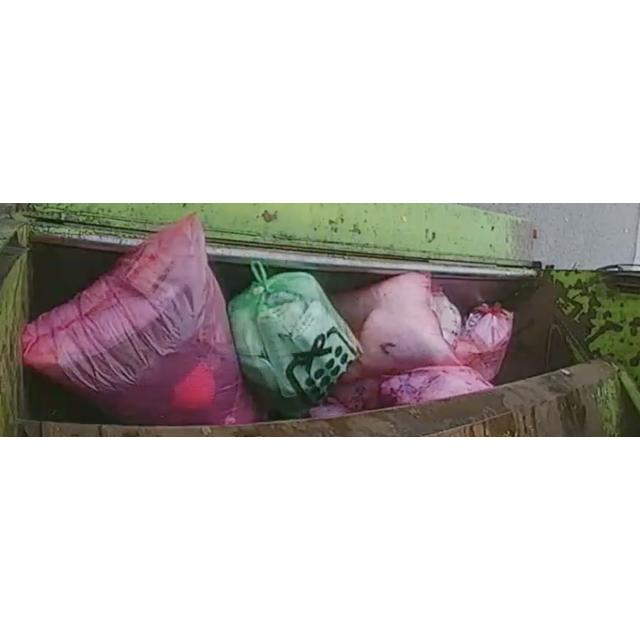general_trashbag: (229, 263, 361, 418)
other_trashbag: (22, 216, 258, 426), (332, 273, 461, 383), (454, 303, 514, 382), (380, 367, 492, 406), (430, 288, 461, 347)
